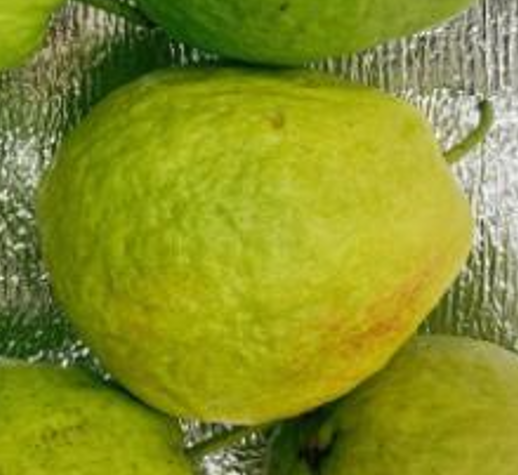guava_B: (36, 64, 476, 425)
